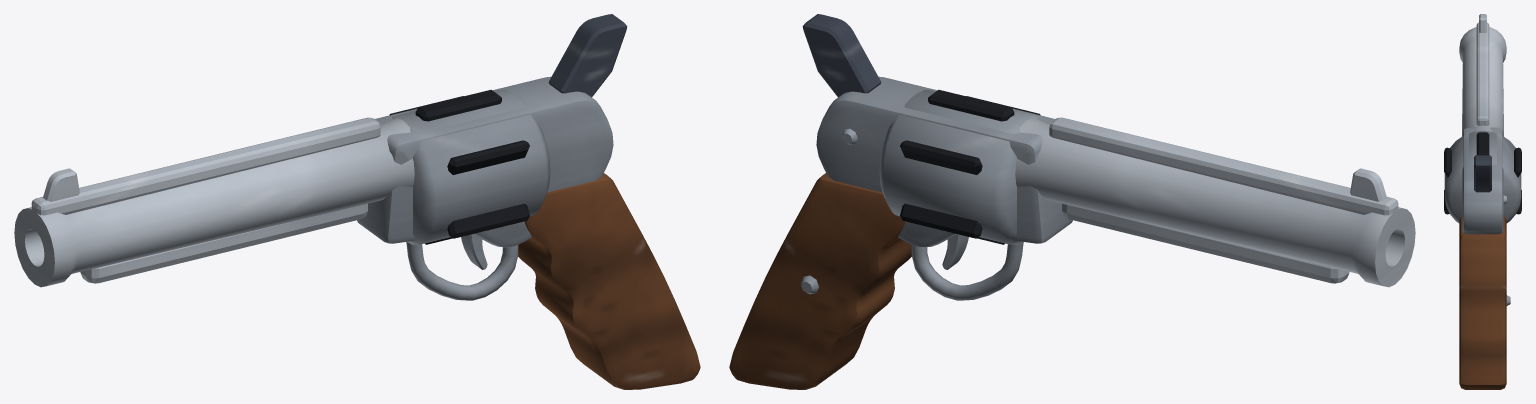
The model's file is Pistol.fbx.
3 views of the same model, side by side, from view 1: azimuth 30°, elevation 25°; view 2: azimuth 150°, elevation 25°; view 3: azimuth 270°, elevation 25° (orthographic). The views are drawn at different scales.
Parts seen in each view (by area): view 1: Pistol; view 2: Pistol; view 3: Pistol.
Part boxes in pixels (x1,y1,x2,y2): Pistol: (14, 14, 700, 389); Pistol: (729, 14, 1415, 389); Pistol: (1444, 14, 1521, 389).
Bounding box in the file's own units: 0.7391 × 0.3969 × 0.1317.
Materials: 6 (6 with a texture image).
